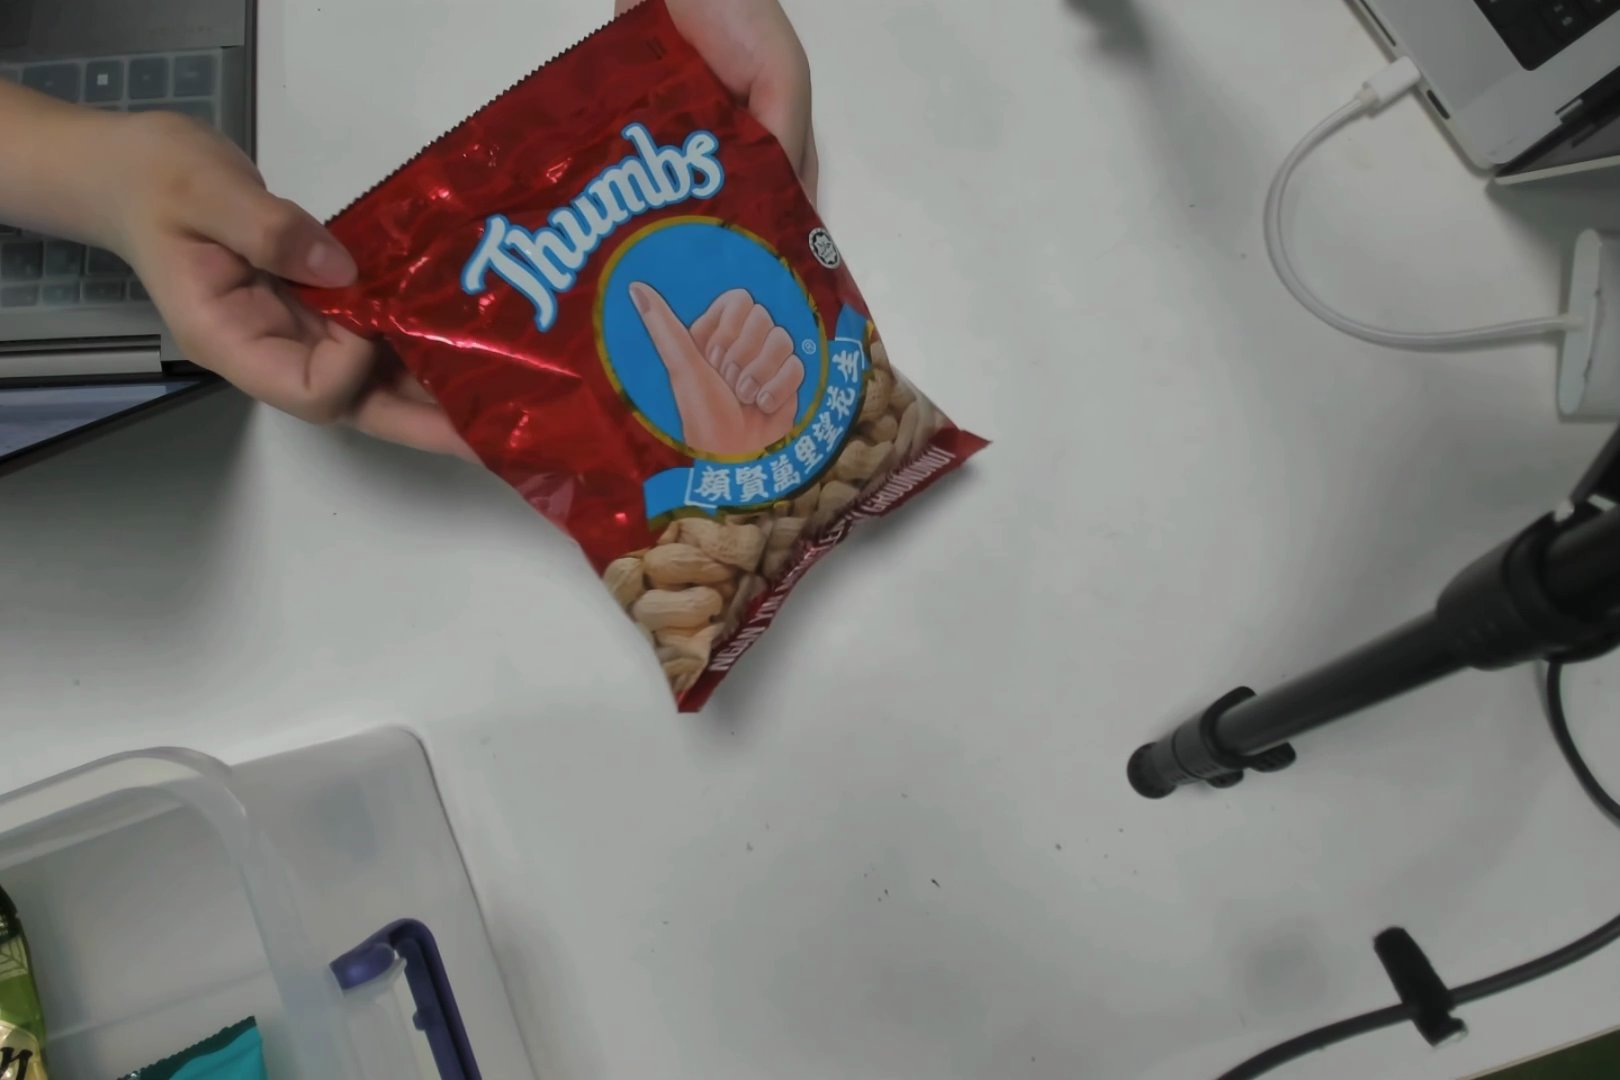Nuts_100-199g_Halal_NonHealthy: (450, 106, 911, 638)
